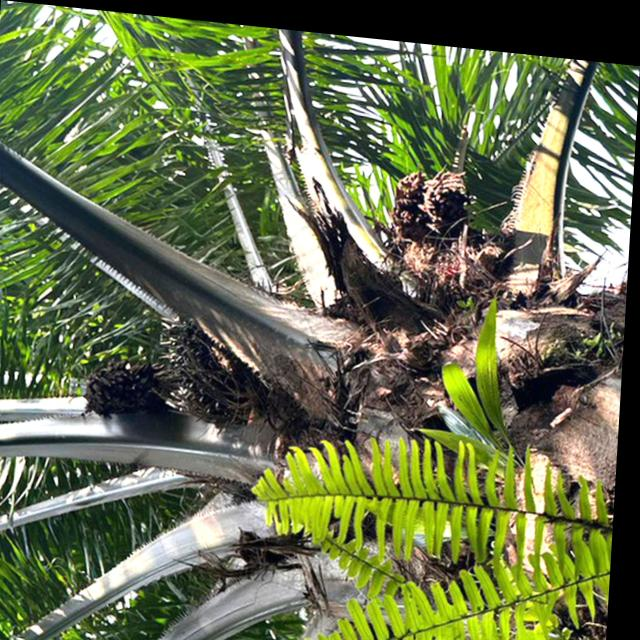ripe: (148, 305, 289, 434)
